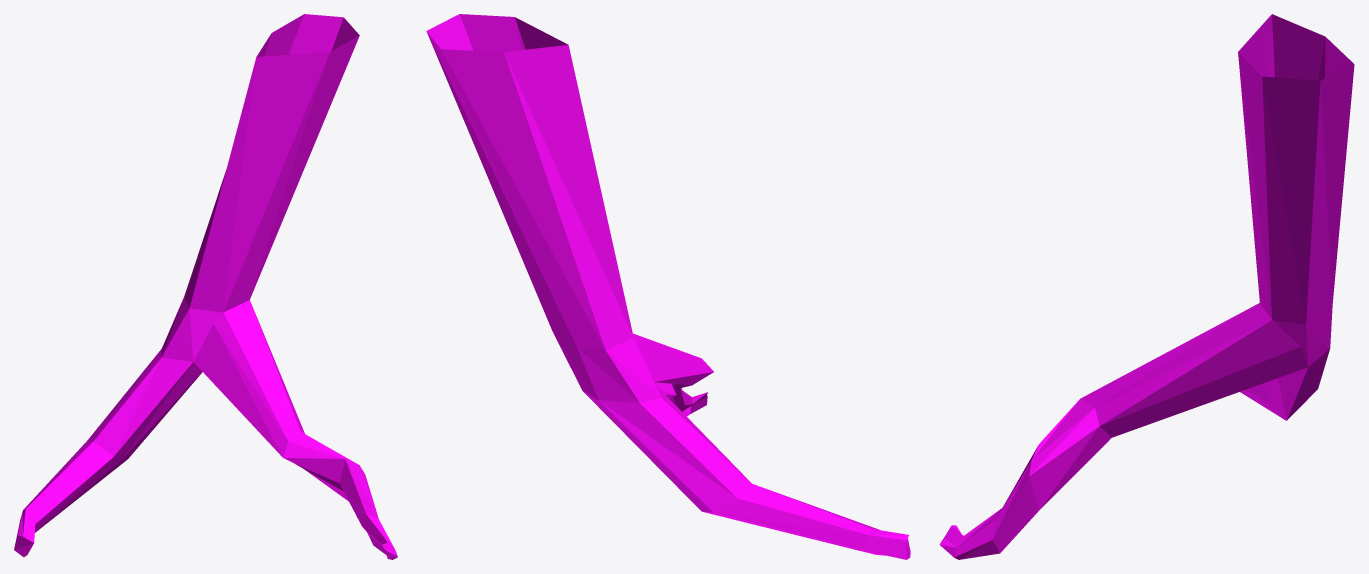
File: treeroot1.obj
3 views of the same model, side by side, from view 1: azimuth 30°, elevation 25°; view 2: azimuth 150°, elevation 25°; view 3: azimuth 270°, elevation 25° (orthographic). The views are drawn at different scales.
Parts seen in each view (by area): view 1: treeroot1_back; view 2: treeroot1_back; view 3: treeroot1_back.
Boxes of the visible parts, x1=… form: treeroot1_back: x1=14, y1=14, x2=397, y2=559; treeroot1_back: x1=426, y1=14, x2=910, y2=559; treeroot1_back: x1=939, y1=14, x2=1354, y2=559.
Bounding box in the file's own units: 2.3 × 2.44 × 1.71.
